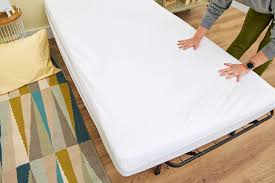bed-matress: (40, 1, 275, 177)
